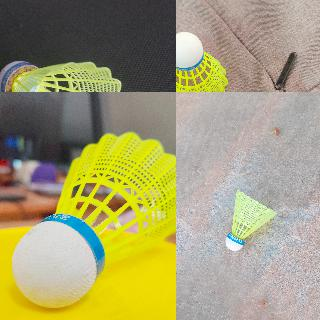shuttlecock: (11, 132, 175, 309), (0, 62, 125, 91), (176, 31, 228, 91), (226, 190, 276, 250)
